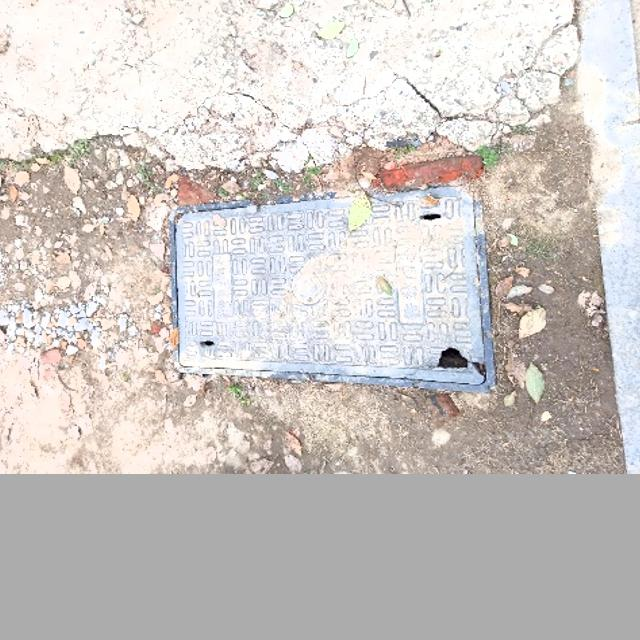broke: (168, 184, 497, 390)
